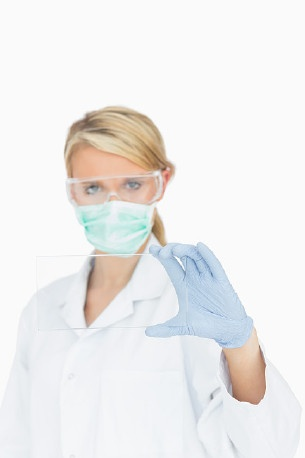Mask: (64, 167, 153, 256)
